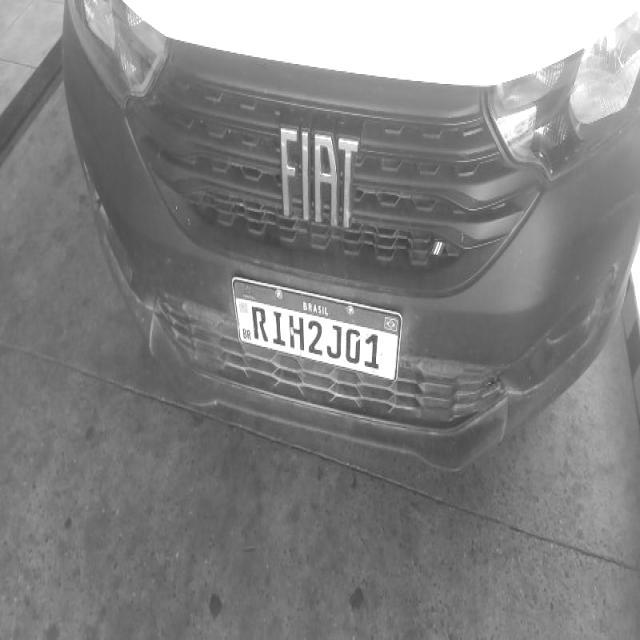placa_mercosul: (234, 278, 401, 379)
